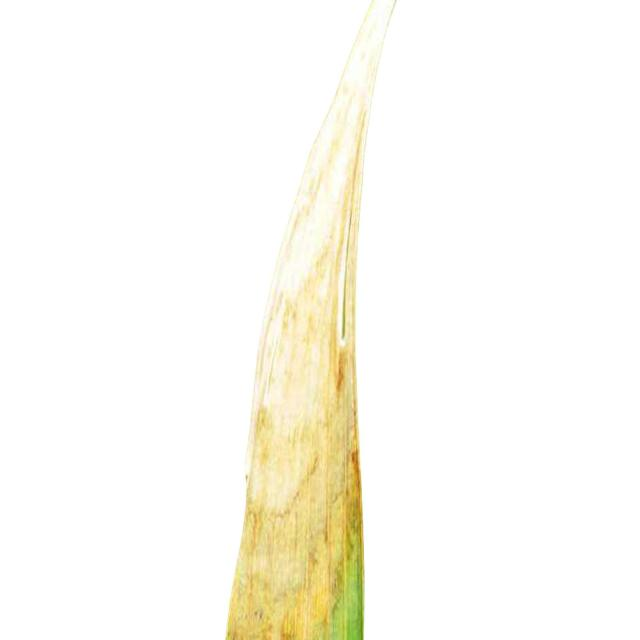Leaf scald: (198, 30, 432, 640)
